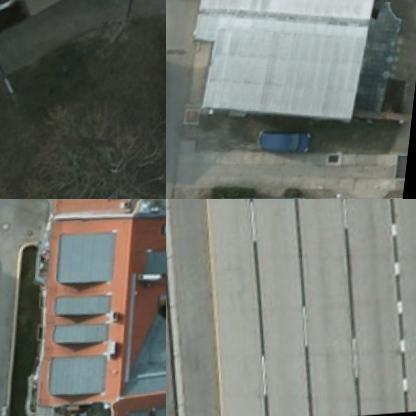car: (260, 131, 314, 160)
